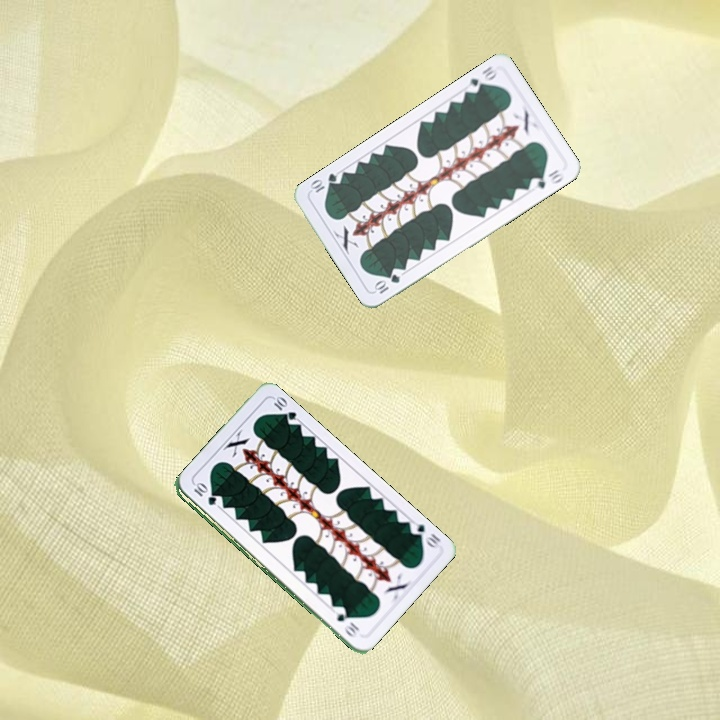G10: (462, 61, 500, 96), (405, 517, 443, 550), (370, 270, 403, 296), (190, 480, 219, 508)
